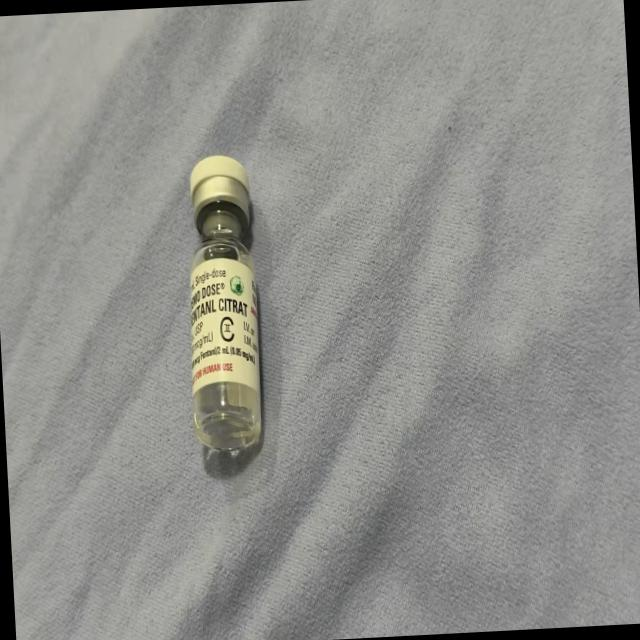fentanl_citrat: (180, 158, 264, 458)
